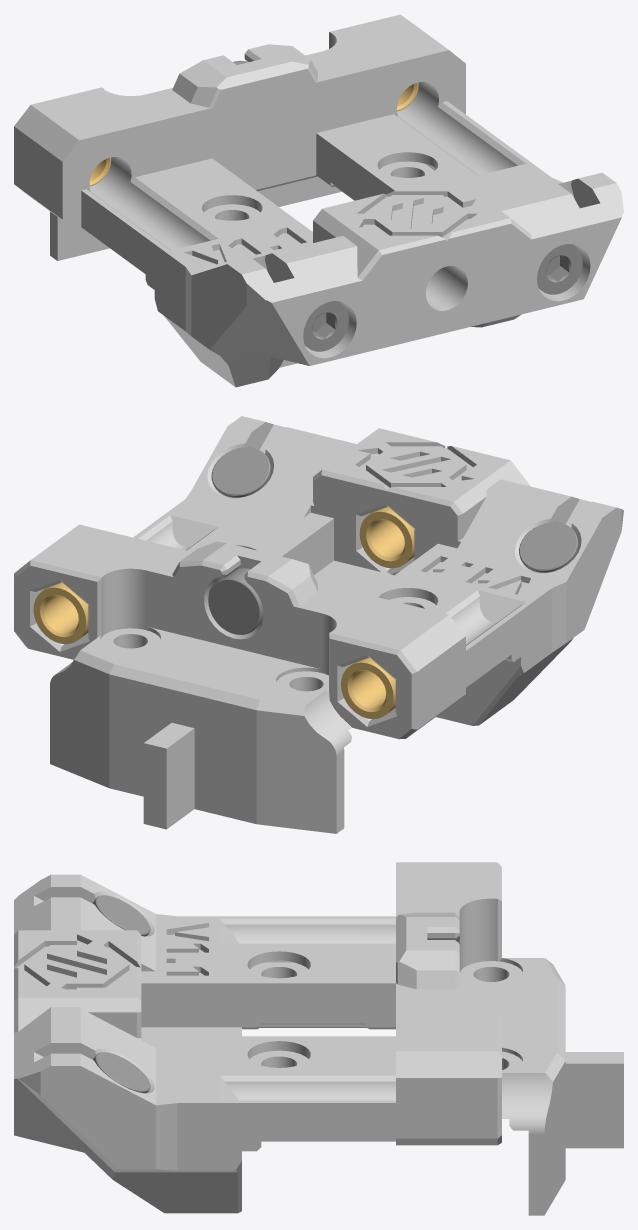
3 renders of one model, top to bottom at view 1: azimuth 30°, elevation 25°; view 2: azimuth 150°, elevation 25°; view 3: azimuth 270°, elevation 25°, orthographic. The views are drawn at different scales.
Visible parts, largest first — view 1: Shuttle MGN12, M3x40 SHCS v002, M3x40 SHCS v1; view 2: Shuttle MGN12, Bushings x005, 6x3mm Magnets x3, Bushings x3, Bushings x004, 6x3mm Magnets x005, 6x3mm Magnets x004; view 3: Shuttle MGN12, 6x3mm Magnets x004, 6x3mm Magnets x005.
Part boxes in pixels (x1,y1,x2,y2): Shuttle MGN12: (14, 14, 623, 387); M3x40 SHCS v002: (426, 164, 582, 294); M3x40 SHCS v1: (303, 301, 348, 351); Shuttle MGN12: (14, 416, 623, 833); Bushings x005: (33, 582, 88, 644); 6x3mm Magnets x3: (208, 568, 261, 634); Bushings x3: (359, 507, 414, 568); Bushings x004: (341, 657, 395, 719); 6x3mm Magnets x005: (519, 522, 578, 572); 6x3mm Magnets x004: (211, 447, 271, 497); Shuttle MGN12: (14, 862, 623, 1215); 6x3mm Magnets x004: (93, 1052, 150, 1093); 6x3mm Magnets x005: (93, 895, 150, 936).
Size of the model in its own units: 0.0459 by 0.0217 by 0.0575.
